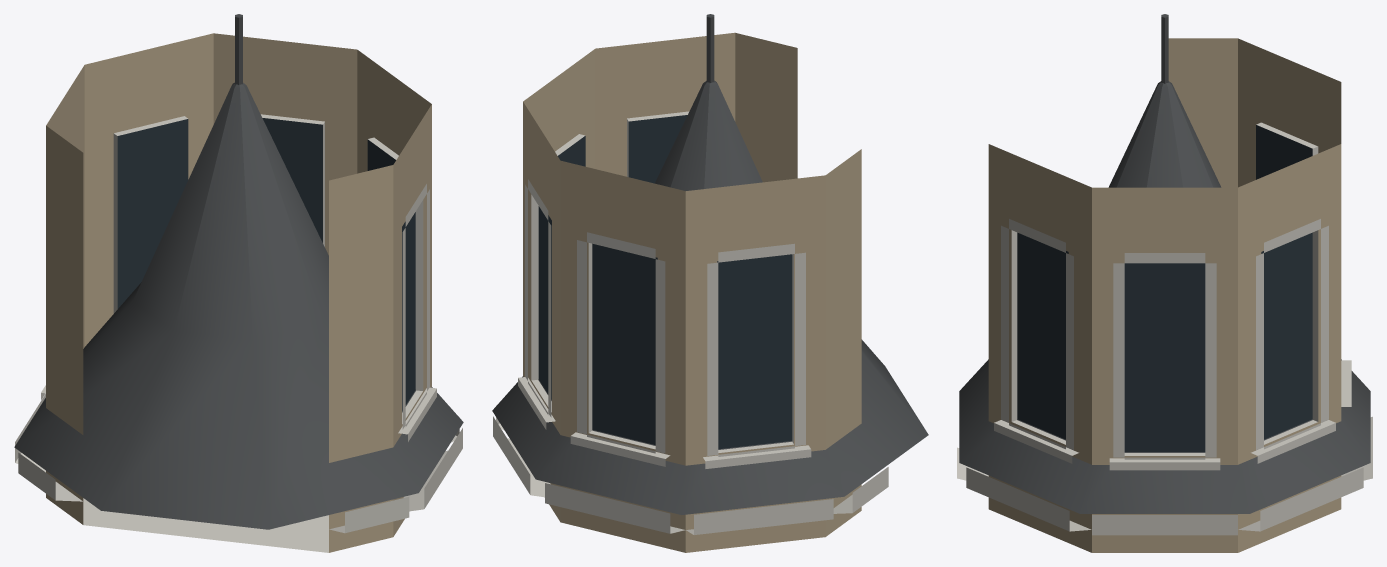
The model's file is bay-turret.glb.
3 renders of one model, left to right at view 1: azimuth 30°, elevation 25°; view 2: azimuth 150°, elevation 25°; view 3: azimuth 270°, elevation 25°, orthographic. The views are drawn at different scales.
Parts seen in each view (by area): view 1: storey, cap; view 2: storey, cap; view 3: storey, cap.
Part boxes in pixels (x1,y1,x2,y2): storey: (41,33,436,552); cap: (14,14,463,552); storey: (518,32,861,552); cap: (492,14,928,552); storey: (988,38,1351,552); cap: (957,14,1372,552).
Bounding box in the file's own units: 3.3 × 4.05 × 3.3.
